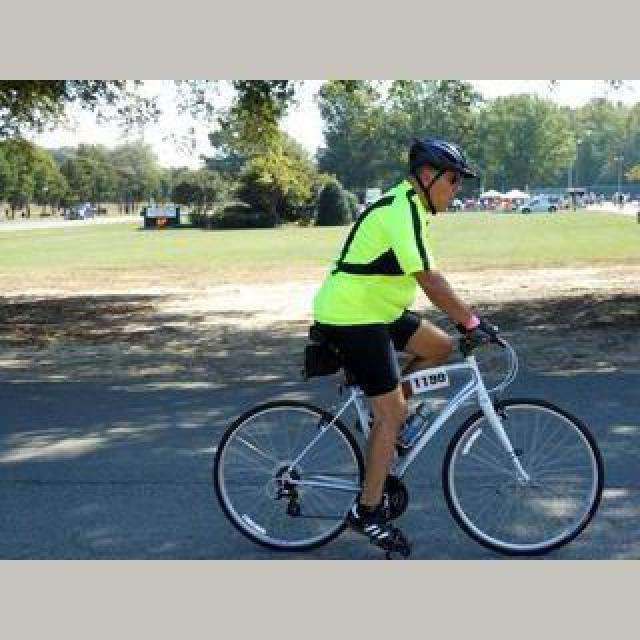Bus-Bike: (518, 194, 564, 214)
MC-Bike: (312, 136, 488, 546)
Person: (204, 327, 602, 557)
